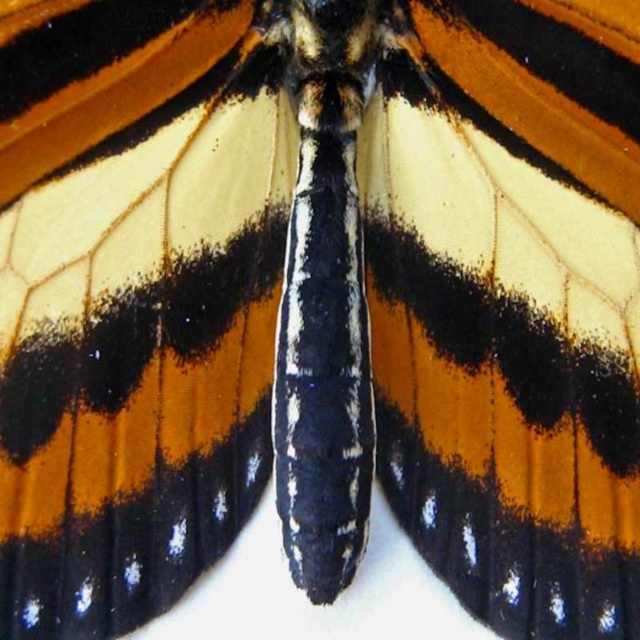Butterfly: (20, 38, 640, 621)
